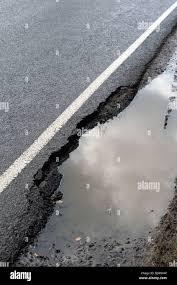pothole: (7, 0, 177, 267)
